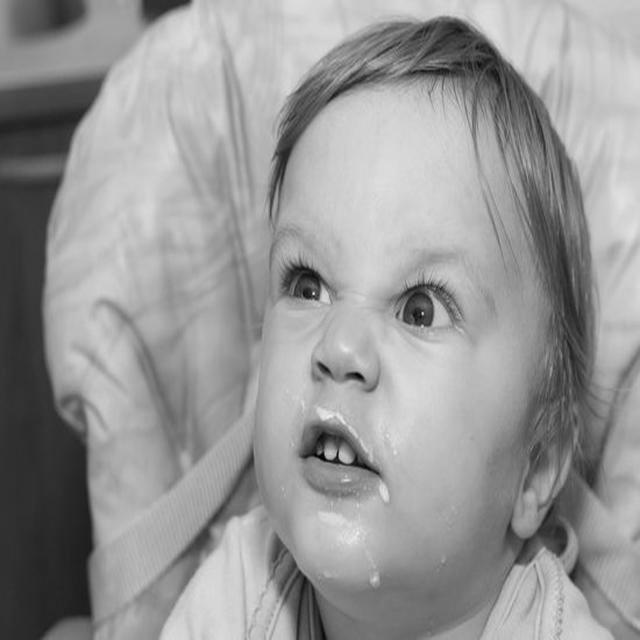Angry: (253, 88, 547, 593)
